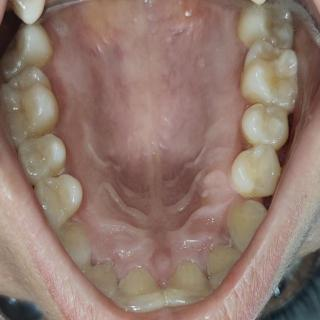UL1BC_healthy: (231, 144, 281, 199)
UL1M_sdecay: (242, 40, 298, 109)
UL2BC_healthy: (242, 103, 289, 146)
UL2M_healthy: (239, 4, 294, 46)
ULCI_healthy: (166, 262, 207, 305)
ULC_healthy: (227, 199, 266, 251)
ULLI_healthy: (206, 245, 238, 286)
UR1BC_healthy: (35, 175, 83, 226)
UR1M_healthy: (1, 66, 59, 143)
UR2BC_healthy: (19, 134, 67, 183)
URCI_healthy: (113, 267, 167, 310)
URC_healthy: (58, 222, 92, 265)
URLI_healthy: (85, 265, 118, 297)
